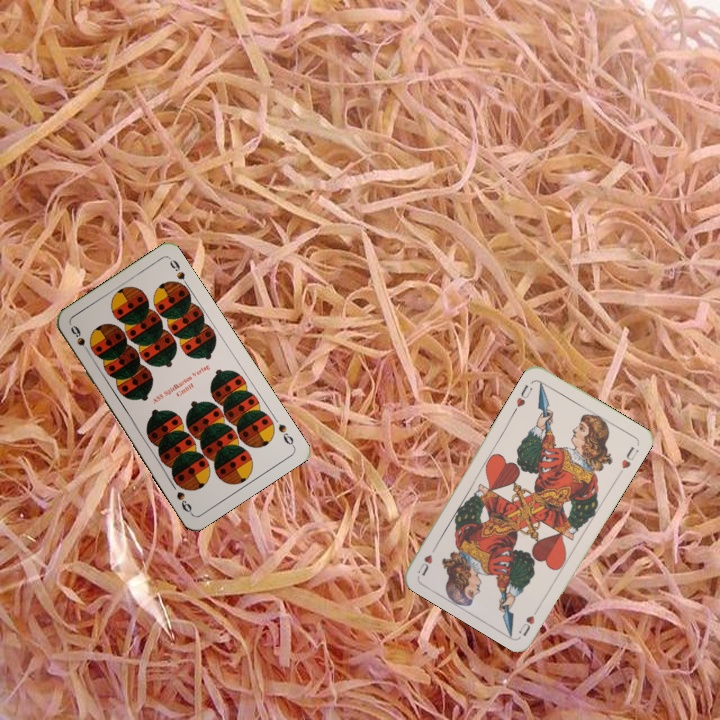HU: (514, 601, 543, 639), (512, 380, 535, 410)
S9: (66, 321, 94, 358), (274, 420, 297, 449)
